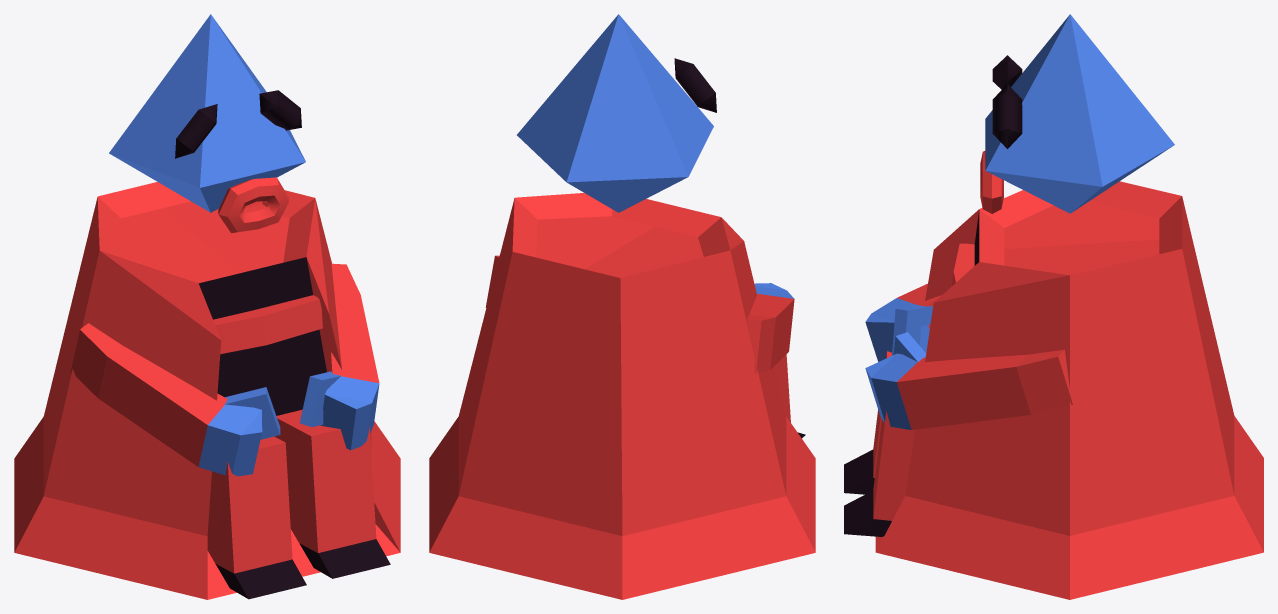
The model's file is wizard.FBX.
3 views of the same model, side by side, from view 1: azimuth 30°, elevation 25°; view 2: azimuth 150°, elevation 25°; view 3: azimuth 270°, elevation 25° (orthographic).
Visible parts, largest first — view 1: Cylinder001, Sphere001, Circle002; view 2: Cylinder001, Sphere001; view 3: Cylinder001, Sphere001, Circle002.
Boxes of the visible parts, left/top/right/bottom form: Cylinder001: left=14, top=90, right=400, bottom=599; Sphere001: left=109, top=14, right=305, bottom=212; Circle002: left=218, top=177, right=288, bottom=233; Cylinder001: left=429, top=58, right=815, bottom=599; Sphere001: left=517, top=14, right=713, bottom=212; Cylinder001: left=844, top=55, right=1263, bottom=599; Sphere001: left=985, top=14, right=1174, bottom=213; Circle002: left=980, top=151, right=1003, bottom=213.
Size of the model in its own units: 28.01 by 34.19 by 26.24.
